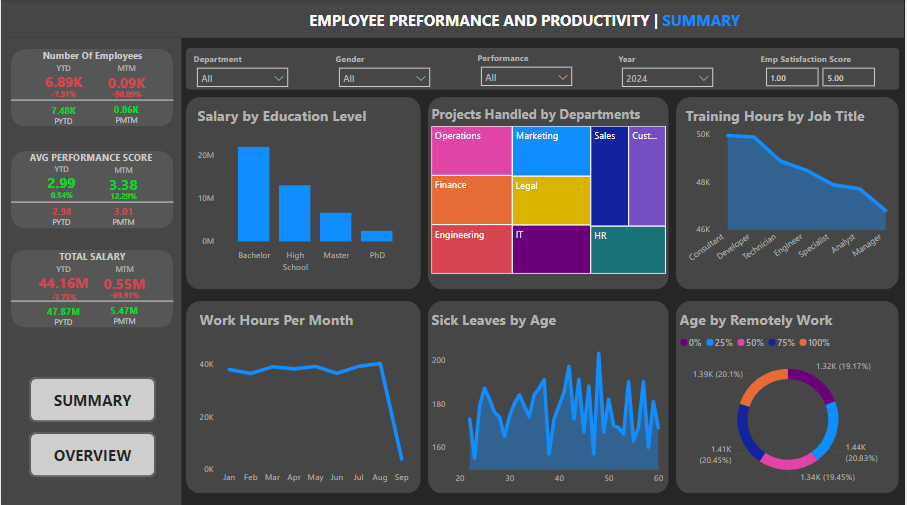

The page's visual inventory and layout, read from the dashboard file:
{"tool":"powerbi","page":{"name":"Summary","canvas":[1280,720],"ordinal":0},"visuals":[{"type":"shape","box":[0,0,1279.8,55],"z":0},{"type":"shape","box":[0,55.7,255.7,664.3],"z":1000},{"type":"shape","box":[262.8,69.4,1011.1,59.4],"z":2000},{"type":"shape","box":[262.9,138.6,332.9,272.9],"z":3000},{"type":"shape","box":[605.7,138.6,341.4,272.9],"z":4000},{"type":"shape","box":[957.1,138.6,315.7,272.9],"z":5000},{"type":"shape","box":[14,71,230,110],"z":6000,"group":"g1"},{"type":"shape","box":[14.8,215.6,230,110],"z":6000,"group":"g2"},{"type":"shape","box":[14.4,355.3,230,110],"z":6000,"group":"g3"},{"type":"shape","box":[262.9,428.6,332.9,272.9],"z":6000},{"type":"shape","box":[605.7,428.6,341.4,272.9],"z":7000},{"type":"shape","box":[957.1,428.6,315.7,272.9],"z":8000},{"type":"textbox","box":[387.6,10,710.8,38.6],"z":9000},{"type":"columnChart","title":"Salary by Education Level","fields":{"Category":["Company Employees Data.Education_Level"],"Y":["Sum(Company Employees Data.Monthly_Salary)"]},"box":[272.9,150,311.4,244.3],"z":10000},{"type":"areaChart","title":"Sick Leaves by Age","fields":{"Y":["CountNonNull(Company Employees Data.Sick_Days)"],"Category":["Company Employees Data.Age"]},"box":[605.7,440,341.4,257.1],"z":11000},{"type":"donutChart","title":"Age by Remotely Work","fields":{"Y":["CountNonNull(Company Employees Data.Age)"],"Category":["Company Employees Data.Remotely Work"]},"box":[957.1,440,317.1,257.1],"z":12000},{"type":"treemap","title":"Projects Handled by Departments","fields":{"Group":["Company Employees Data.Department"],"Values":["CountNonNull(Company Employees Data.Projects_Handled)"]},"box":[605.2,150.2,341.6,243.8],"z":13000},{"type":"lineChart","fields":{"Category":["Company Employees Data.Job_Title"],"Y":["Sum(Company Employees Data.Training_Hours)"]},"box":[965.7,150,308.6,244.3],"z":14000},{"type":"slicer","title":"Department","fields":{"Values":["Company Employees Data.Department"]},"box":[268.2,76.1,148.8,51.2],"z":15000},{"type":"card","title":"YTD","fields":{"Values":["Company Employees Data.YTD No. of emp"]},"box":[43.1,90.6,89.1,42.3],"z":15000,"group":"g5"},{"type":"card","title":"YTD","fields":{"Values":["Company Employees Data.YTD Avg Performance Rating"]},"box":[42.1,235.2,89.1,42.3],"z":15000,"group":"g6"},{"type":"card","title":"YTD","fields":{"Values":["Company Employees Data.YTD Avg  Salary"]},"box":[43.8,374.8,89,42],"z":15000,"group":"g7"},{"type":"slicer","title":"Gender","fields":{"Values":["Company Employees Data.Gender"]},"box":[469.1,76.4,148.8,50.6],"z":16000},{"type":"slicer","title":"Performance","fields":{"Values":["Company Employees Data.Performance_Score"]},"box":[669.9,75.7,148.8,52.1],"z":17000},{"type":"slicer","title":"Year","fields":{"Values":["Hire Date.Year"]},"box":[870.8,76.4,148.8,50.6],"z":18000},{"type":"slicer","title":"Emp Satisfaction Score","fields":{"Values":["Company Employees Data.Employee_Satisfaction_Score"]},"box":[1071.6,76.4,178.6,50.6],"z":19000},{"type":"group","id":"g1","title":"Group 3","box":[14,67,230.7,122],"z":20000},{"type":"group","id":"g2","title":"Group 3","box":[14.8,211.9,229.2,120.6],"z":21000},{"type":"group","id":"g3","title":"Group 3","box":[14.4,351.3,230.7,121.2],"z":22000},{"type":"lineChart","title":" Work Hours Per Month","fields":{"Category":["Hire Date.Month"],"Y":["Sum(Company Employees Data.Work_Hours_Per_Week)"]},"box":[276.7,440,308.9,256.7],"z":23000},{"type":"actionButton","title":"SUMMARY","box":[39.3,536.3,180.2,64.4],"z":23001,"group":"g4"},{"type":"actionButton","title":"SUMMARY","box":[39.3,615,180.2,64.4],"z":23002,"group":"g4"},{"type":"group","id":"g4","title":"Group 4","box":[39.3,536.3,180.2,143],"z":23003},{"type":"textbox","box":[47.6,67,162.7,29.1],"z":26000,"group":"g1"},{"type":"textbox","box":[25.2,211.9,206.9,29.8],"z":26000,"group":"g2"},{"type":"textbox","box":[48.5,351.3,162.7,29.1],"z":26000,"group":"g3"},{"type":"shape","box":[14.2,137.8,230,11.7],"z":27000,"group":"g1"},{"type":"card","title":"PYTD","fields":{"Values":["Company Employees Data.PYTD No.of Emp"]},"box":[52.6,145.6,70,26.4],"z":27000,"group":"g5"},{"type":"shape","box":[15,282.4,230,11.7],"z":27000,"group":"g2"},{"type":"card","title":"PYTD","fields":{"Values":["Company Employees Data.PYTD Avg Performance Rating"]},"box":[51.6,290.2,70,26.4],"z":27000,"group":"g6"},{"type":"shape","box":[15.1,422.1,230,11.7],"z":27000,"group":"g3"},{"type":"card","title":"PYTD","fields":{"Values":["Company Employees Data.PYTD Avg Salary"]},"box":[53.3,429.9,70,26.4],"z":27000,"group":"g7"},{"type":"group","id":"g5","title":"Group 1","box":[43.1,90.6,89.1,97.6],"z":28000,"group":"g1"},{"type":"card","title":"PYTD No.of Emp","fields":{"Values":["Company Employees Data.Emp Percengate"]},"box":[54.9,121.1,65.6,30.6],"z":28000,"group":"g5"},{"type":"group","id":"g6","title":"Group 1","box":[42.1,235.2,89.1,97.6],"z":28000,"group":"g2"},{"type":"card","title":"PYTD No.of Emp","fields":{"Values":["Company Employees Data.AVg Performance %"]},"box":[61.9,269.3,49.5,26.8],"z":28000,"group":"g6"},{"type":"group","id":"g7","title":"Group 1","box":[43.8,374.8,89,97.7],"z":28000,"group":"g3"},{"type":"card","title":"PYTD No.of Emp","fields":{"Values":["Company Employees Data.Salary Diff %"]},"box":[57.8,409.8,61,26],"z":28000,"group":"g7"},{"type":"group","id":"g8","title":"Group 2","box":[137.7,91.7,80,95.5],"z":29000,"group":"g1"},{"type":"group","id":"g9","title":"Group 2","box":[135.8,236.3,77.7,95.5],"z":29000,"group":"g2"},{"type":"group","id":"g10","title":"Group 2","box":[135.8,376,77.7,95.5],"z":29000,"group":"g3"},{"type":"card","title":"MTM","fields":{"Values":["Company Employees Data.MTM No of EMp"]},"box":[138.8,91.7,77.7,44.1],"z":30000,"group":"g8"},{"type":"card","title":"MTM","fields":{"Values":["Company Employees Data.MTM Avg Performance"]},"box":[135.8,236.3,77.7,44.1],"z":30000,"group":"g9"},{"type":"card","title":"MTM","fields":{"Values":["Company Employees Data.MTM Salary"]},"box":[135.8,376,77.7,44.1],"z":30000,"group":"g10"},{"type":"card","title":"PMTM","fields":{"Values":["Company Employees Data.PMTM Emp"]},"box":[145.9,145.3,63.6,26.4],"z":31000,"group":"g8"},{"type":"card","title":"PMTM","fields":{"Values":["Company Employees Data.PMTM Avg Performance"]},"box":[142.8,289.9,63.6,26.4],"z":31000,"group":"g9"},{"type":"card","title":"PMTM","fields":{"Values":["Company Employees Data.PMTM Salary"]},"box":[142.8,429.6,63.6,26.4],"z":31000,"group":"g10"},{"type":"textbox","box":[63.2,158.8,48.8,29.4],"z":32000,"group":"g5"},{"type":"textbox","box":[62.2,303.4,48.8,29.4],"z":32000,"group":"g6"},{"type":"textbox","box":[63.9,443.1,48.8,29.4],"z":32000,"group":"g7"},{"type":"textbox","box":[153.2,158.5,49.1,28.6],"z":34000,"group":"g8"},{"type":"textbox","box":[150.1,303.1,49.1,28.6],"z":34000,"group":"g9"},{"type":"textbox","box":[150.1,442.8,49.1,28.6],"z":34000,"group":"g10"},{"type":"card","title":"PYTD No.of Emp","fields":{"Values":["Company Employees Data.MTM Emp %"]},"box":[137.7,124.3,80,28.4],"z":35000,"group":"g8"},{"type":"card","title":"PYTD No.of Emp","fields":{"Values":["Company Employees Data.MTM Performance %"]},"box":[149.9,270.5,49.6,27.1],"z":35000,"group":"g9"},{"type":"card","title":"PYTD No.of Emp","fields":{"Values":["Company Employees Data.MTM Salary %"]},"box":[146.3,407.7,56.7,23.3],"z":35000,"group":"g10"}]}

Visuals, with their boxes in screenshot pixels (x1, y1, x2, y2), scaled from the page's 1280x720 canvas onto the 907x505 screenshot:
shape: (left=0, top=0, right=906, bottom=39)
shape: (left=0, top=39, right=181, bottom=504)
shape: (left=186, top=49, right=903, bottom=90)
shape: (left=186, top=97, right=422, bottom=289)
shape: (left=429, top=97, right=671, bottom=289)
shape: (left=678, top=97, right=902, bottom=289)
shape: (left=10, top=50, right=173, bottom=127)
shape: (left=10, top=151, right=173, bottom=228)
shape: (left=10, top=249, right=173, bottom=326)
shape: (left=186, top=301, right=422, bottom=492)
shape: (left=429, top=301, right=671, bottom=492)
shape: (left=678, top=301, right=902, bottom=492)
textbox: (left=275, top=7, right=778, bottom=34)
"Salary by Education Level" columnChart: (left=193, top=105, right=414, bottom=277)
"Sick Leaves by Age" areaChart: (left=429, top=309, right=671, bottom=489)
"Age by Remotely Work" donutChart: (left=678, top=309, right=903, bottom=489)
"Projects Handled by Departments" treemap: (left=429, top=105, right=671, bottom=276)
lineChart - Company Employees Data.Job_Title x Sum(Company Employees Data.Training_Hours): (left=684, top=105, right=903, bottom=277)
"Department" slicer: (left=190, top=53, right=295, bottom=89)
"YTD" card: (left=31, top=64, right=94, bottom=93)
"YTD" card: (left=30, top=165, right=93, bottom=195)
"YTD" card: (left=31, top=263, right=94, bottom=292)
"Gender" slicer: (left=332, top=54, right=438, bottom=89)
"Performance" slicer: (left=475, top=53, right=580, bottom=90)
"Year" slicer: (left=617, top=54, right=722, bottom=89)
"Emp Satisfaction Score" slicer: (left=759, top=54, right=886, bottom=89)
"Group 3" group: (left=10, top=47, right=173, bottom=133)
"Group 3" group: (left=10, top=149, right=173, bottom=233)
"Group 3" group: (left=10, top=246, right=174, bottom=331)
" Work Hours Per Month" lineChart: (left=196, top=309, right=415, bottom=489)
"SUMMARY" actionButton: (left=28, top=376, right=156, bottom=421)
"SUMMARY" actionButton: (left=28, top=431, right=156, bottom=477)
"Group 4" group: (left=28, top=376, right=156, bottom=476)
textbox: (left=34, top=47, right=149, bottom=67)
textbox: (left=18, top=149, right=164, bottom=170)
textbox: (left=34, top=246, right=150, bottom=267)
shape: (left=10, top=97, right=173, bottom=105)
"PYTD" card: (left=37, top=102, right=87, bottom=121)
shape: (left=11, top=198, right=174, bottom=206)
"PYTD" card: (left=37, top=204, right=86, bottom=222)
shape: (left=11, top=296, right=174, bottom=304)
"PYTD" card: (left=38, top=302, right=87, bottom=320)
"Group 1" group: (left=31, top=64, right=94, bottom=132)
"PYTD No.of Emp" card: (left=39, top=85, right=85, bottom=106)
"Group 1" group: (left=30, top=165, right=93, bottom=233)
"PYTD No.of Emp" card: (left=44, top=189, right=79, bottom=208)
"Group 1" group: (left=31, top=263, right=94, bottom=331)
"PYTD No.of Emp" card: (left=41, top=287, right=84, bottom=306)
"Group 2" group: (left=98, top=64, right=154, bottom=131)
"Group 2" group: (left=96, top=166, right=151, bottom=233)
"Group 2" group: (left=96, top=264, right=151, bottom=331)
"MTM" card: (left=98, top=64, right=153, bottom=95)
"MTM" card: (left=96, top=166, right=151, bottom=197)
"MTM" card: (left=96, top=264, right=151, bottom=295)
"PMTM" card: (left=103, top=102, right=148, bottom=120)
"PMTM" card: (left=101, top=203, right=146, bottom=222)
"PMTM" card: (left=101, top=301, right=146, bottom=320)
textbox: (left=45, top=111, right=79, bottom=132)
textbox: (left=44, top=213, right=79, bottom=233)
textbox: (left=45, top=311, right=80, bottom=331)
textbox: (left=109, top=111, right=143, bottom=131)
textbox: (left=106, top=213, right=141, bottom=233)
textbox: (left=106, top=311, right=141, bottom=331)
"PYTD No.of Emp" card: (left=98, top=87, right=154, bottom=107)
"PYTD No.of Emp" card: (left=106, top=190, right=141, bottom=209)
"PYTD No.of Emp" card: (left=104, top=286, right=144, bottom=302)
